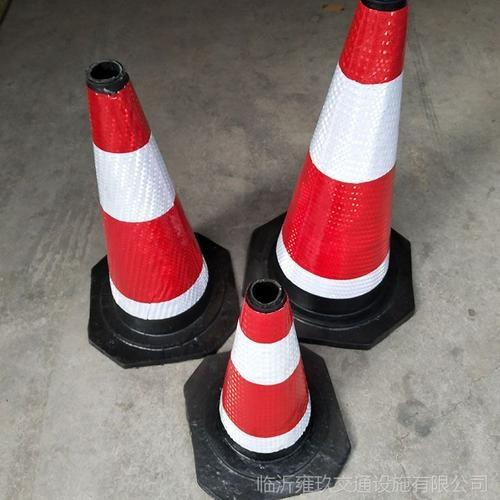cone_barrel: (255, 7, 421, 336), (67, 60, 229, 352), (203, 281, 321, 459)
